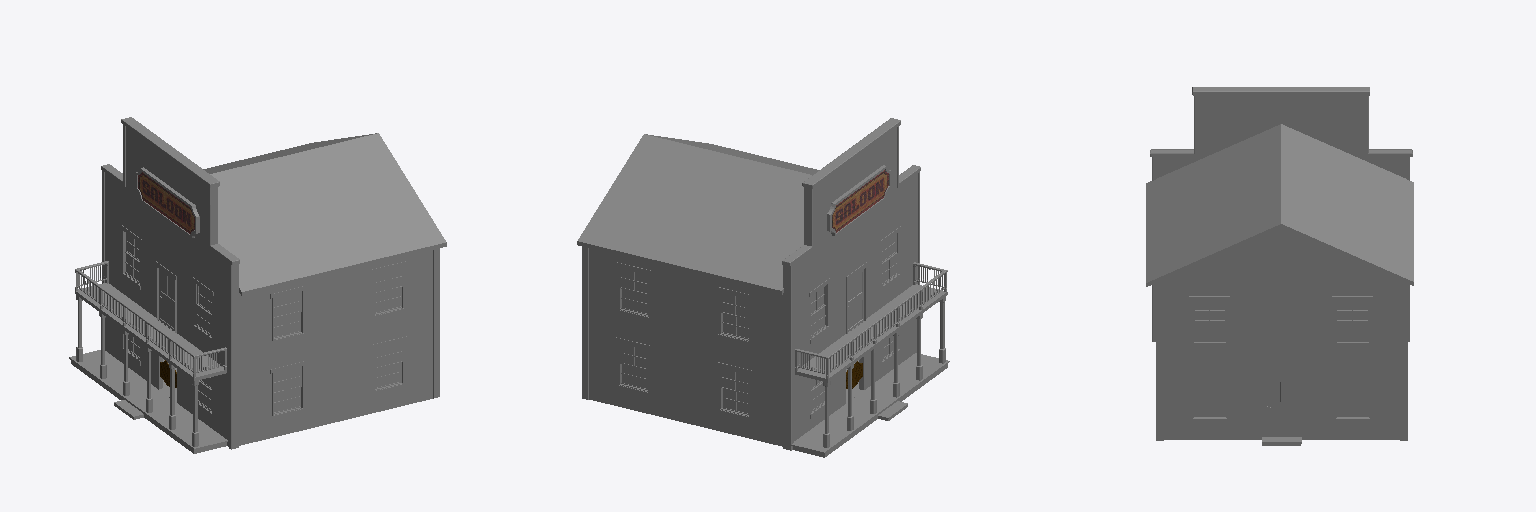
3 renders of one model, left to right at view 1: azimuth 30°, elevation 25°; view 2: azimuth 150°, elevation 25°; view 3: azimuth 270°, elevation 25°, orthographic.
Visible parts, largest first — view 1: Saloon; view 2: Saloon; view 3: Saloon.
Part boxes in pixels (x1,y1,x2,y2): Saloon: (69,117,446,453); Saloon: (577,118,949,457); Saloon: (1146,87,1413,445).
Bounding box in the file's own units: 634 × 579 × 561.
12 materials, 4 textured.